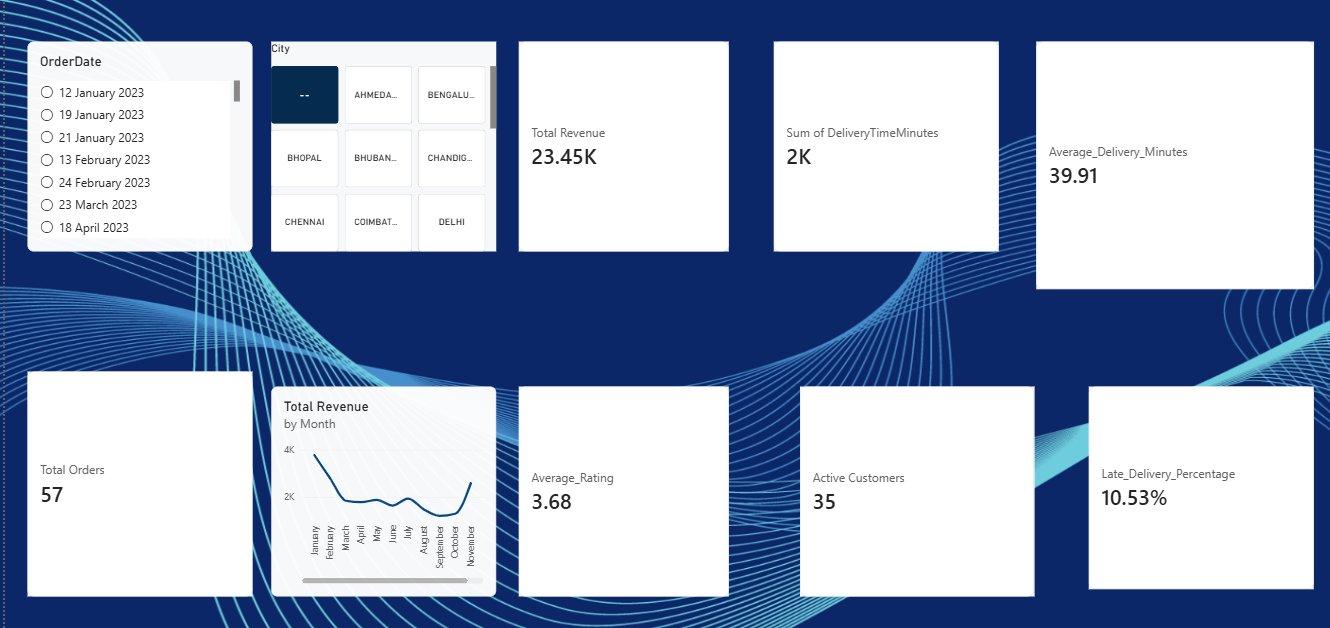

This screenshot's page, from the dashboard's own definition file:
{"tool":"powerbi","page":{"name":"Executive Dashboard","canvas":[1920,1080],"ordinal":0},"visuals":[{"type":"cardVisual","fields":{"Data":["cities.Total Revenue"]},"box":[685,210,280,280],"z":0},{"type":"cardVisual","fields":{"Data":["cities.Total Orders"]},"box":[30,650,300,300],"z":1000},{"type":"cardVisual","fields":{"Data":["cities.Active Customers"]},"box":[1060,670,312.9,280],"z":2000},{"type":"cardVisual","fields":{"Data":["Sum(orders.DeliveryTimeMinutes)"]},"box":[1025,210,300,280],"z":3000},{"type":"cardVisual","fields":{"Data":["cities.Average_Delivery_Minutes"]},"box":[1375,210,370,330],"z":4000},{"type":"lineChart","fields":{"Category":["orders.OrderDate.Variation.Date Hierarchy.Month"],"Y":["cities.Total Revenue"]},"box":[355,670,300,280],"z":5000},{"type":"advancedSlicerVisual","fields":{"Values":["cities.City"]},"box":[355,210,300,280],"z":6000},{"type":"listSlicer","fields":{"Values":["orders.OrderDate Hierarchy.OrderDate"]},"box":[30,210,300,280],"z":7000},{"type":"cardVisual","fields":{"Data":["customer_feedback.Average_Rating"]},"box":[685,670,280,280],"z":8000},{"type":"cardVisual","fields":{"Data":["cities.Late_Delivery_Percentage"]},"box":[1445,670,300,270],"z":9000}]}

Visuals, with their boxes on the page's 1920x1080 design canvas (x1, y1, x2, y2). These are canvas units, not pixel positions in the 1330x628 screenshot, which may show the page scaled, cropped or inside an application window:
cardVisual - cities.Total Revenue: bbox(685, 210, 965, 490)
cardVisual - cities.Total Orders: bbox(30, 650, 330, 950)
cardVisual - cities.Active Customers: bbox(1060, 670, 1373, 950)
cardVisual - Sum(orders.DeliveryTimeMinutes): bbox(1025, 210, 1325, 490)
cardVisual - cities.Average_Delivery_Minutes: bbox(1375, 210, 1745, 540)
lineChart - orders.OrderDate.Variation.Date Hierarchy.Month x cities.Total Revenue: bbox(355, 670, 655, 950)
advancedSlicerVisual - cities.City: bbox(355, 210, 655, 490)
listSlicer - orders.OrderDate Hierarchy.OrderDate: bbox(30, 210, 330, 490)
cardVisual - customer_feedback.Average_Rating: bbox(685, 670, 965, 950)
cardVisual - cities.Late_Delivery_Percentage: bbox(1445, 670, 1745, 940)
